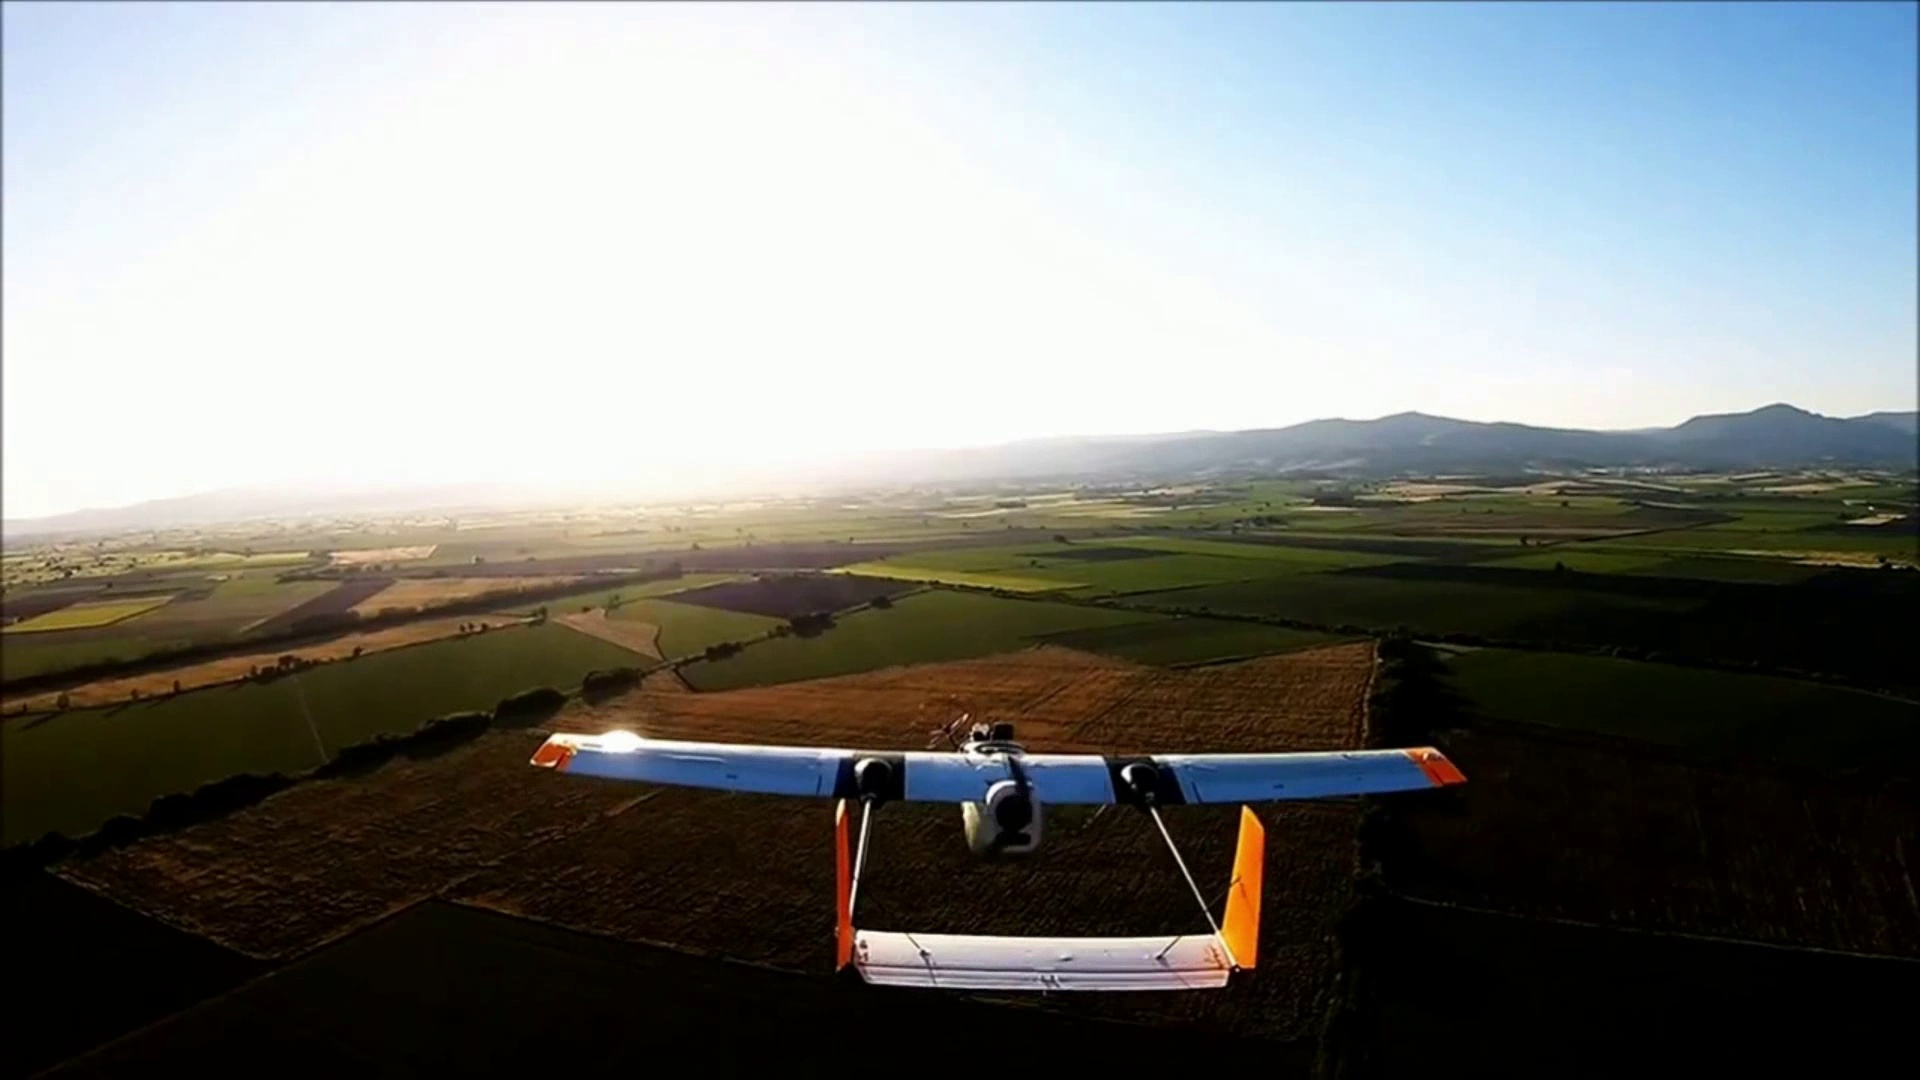airplane: (531, 717, 1466, 992)
